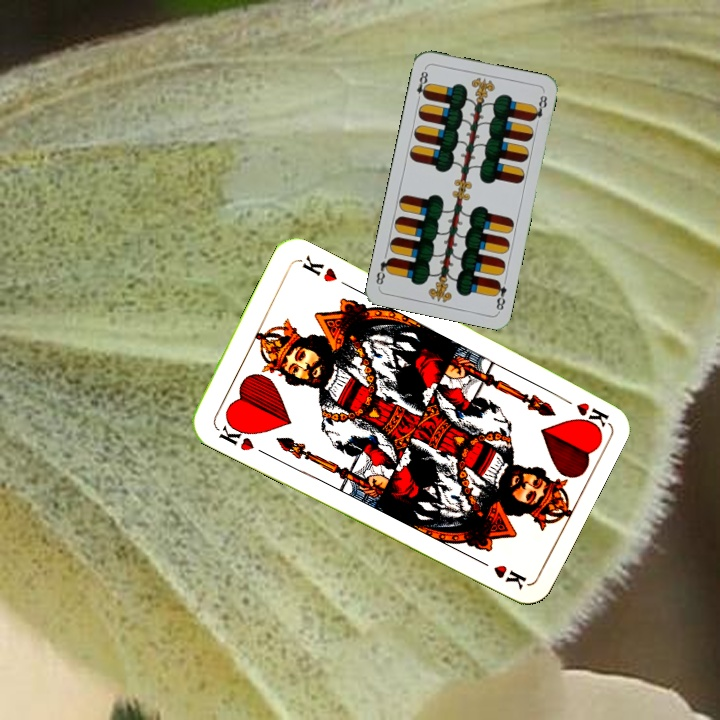E8: (412, 64, 432, 104), (490, 276, 509, 314)
HK: (553, 390, 610, 428), (211, 416, 257, 454)
